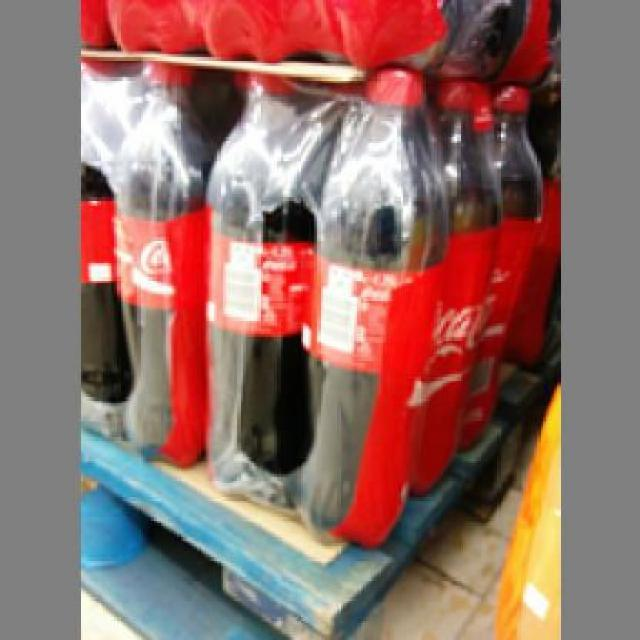Coke: (300, 68, 449, 544), (203, 66, 320, 494), (105, 57, 209, 466)
